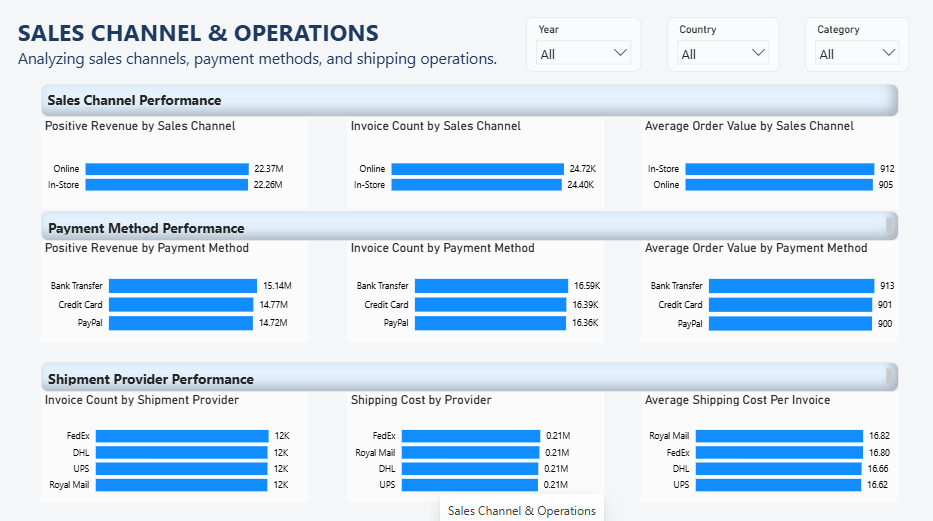

This screenshot's page, from the dashboard's own definition file:
{"tool":"powerbi","page":{"name":"Sales Channel & Operations","canvas":[1280,720],"ordinal":3},"visuals":[{"type":"textbox","box":[19,17.6,692.2,90.7],"z":0},{"type":"slicer","fields":{"Values":["DimDate.Year"]},"box":[720,24.9,158,74.6],"z":1000},{"type":"slicer","fields":{"Values":["DimProduct.category"]},"box":[1103.4,24.9,143.4,74.6],"z":2000},{"type":"slicer","fields":{"Values":["DimCustomer.country"]},"box":[913.2,24.9,153.7,74.6],"z":3000},{"type":"clusteredBarChart","fields":{"Category":["FactSales.saleschannel"],"Y":["FactSales.Positive Revenue"]},"box":[55.6,162.4,365.9,124.4],"z":4000},{"type":"clusteredBarChart","fields":{"Category":["FactSales.saleschannel"],"Y":["FactSales.Invoice Count"]},"box":[475.6,162.4,352.7,124.4],"z":5000},{"type":"clusteredBarChart","fields":{"Category":["FactSales.saleschannel"],"Y":["FactSales.Average Order Value"]},"box":[878,162.4,352.7,124.4],"z":6000},{"type":"clusteredBarChart","fields":{"Category":["FactSales.paymentmethod"],"Y":["FactSales.Positive Revenue"]},"box":[56,330,366,140],"z":7000},{"type":"clusteredBarChart","fields":{"Category":["FactSales.paymentmethod"],"Y":["FactSales.Invoice Count"]},"box":[476,330,352,140],"z":8000},{"type":"clusteredBarChart","fields":{"Category":["FactSales.paymentmethod"],"Y":["FactSales.Average Order Value"]},"box":[878,330.7,352.7,140.5],"z":9000},{"type":"clusteredBarChart","fields":{"Category":["FactSales.shipmentprovider"],"Y":["FactSales.Invoice Count"]},"box":[55.6,538.5,365.9,150.7],"z":10000},{"type":"clusteredBarChart","title":"Shipping Cost by Provider","fields":{"Category":["FactSales.shipmentprovider"],"Y":["Sum(FactSales.shippingcost)"]},"box":[475.6,538.5,352.7,150.7],"z":11000},{"type":"clusteredBarChart","title":"Average Shipping Cost Per Invoice","fields":{"Category":["FactSales.shipmentprovider"],"Y":["FactSales.Average Shipping Cost"]},"box":[878,538.5,352.7,150.7],"z":12000},{"type":"textbox","box":[55.6,117.1,1175.1,45.4],"z":13000},{"type":"textbox","box":[55.6,289.8,1175.1,41],"z":14000},{"type":"textbox","box":[55.6,497.6,1175.1,41],"z":15000}]}

Visuals, with their boxes in screenshot pixels (x1, y1, x2, y2), scaled from the page's 1280x720 canvas onto the 933x521 screenshot:
textbox: bbox(14, 13, 518, 78)
slicer - DimDate.Year: bbox(525, 18, 640, 72)
slicer - DimProduct.category: bbox(804, 18, 909, 72)
slicer - DimCustomer.country: bbox(666, 18, 778, 72)
clusteredBarChart - FactSales.saleschannel x FactSales.Positive Revenue: bbox(41, 118, 307, 208)
clusteredBarChart - FactSales.saleschannel x FactSales.Invoice Count: bbox(347, 118, 604, 208)
clusteredBarChart - FactSales.saleschannel x FactSales.Average Order Value: bbox(640, 118, 897, 208)
clusteredBarChart - FactSales.paymentmethod x FactSales.Positive Revenue: bbox(41, 239, 308, 340)
clusteredBarChart - FactSales.paymentmethod x FactSales.Invoice Count: bbox(347, 239, 604, 340)
clusteredBarChart - FactSales.paymentmethod x FactSales.Average Order Value: bbox(640, 239, 897, 341)
clusteredBarChart - FactSales.shipmentprovider x FactSales.Invoice Count: bbox(41, 390, 307, 499)
"Shipping Cost by Provider" clusteredBarChart: bbox(347, 390, 604, 499)
"Average Shipping Cost Per Invoice" clusteredBarChart: bbox(640, 390, 897, 499)
textbox: bbox(41, 85, 897, 118)
textbox: bbox(41, 210, 897, 239)
textbox: bbox(41, 360, 897, 390)
